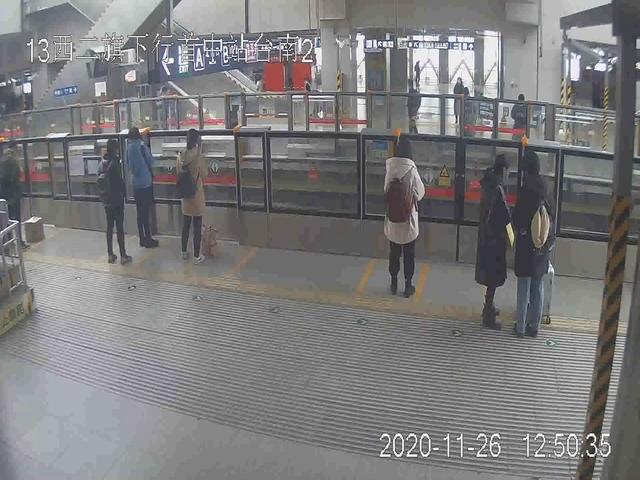person: (513, 142, 554, 334), (382, 131, 426, 296), (470, 154, 509, 332), (174, 128, 219, 265), (90, 138, 134, 268), (128, 122, 162, 248)
